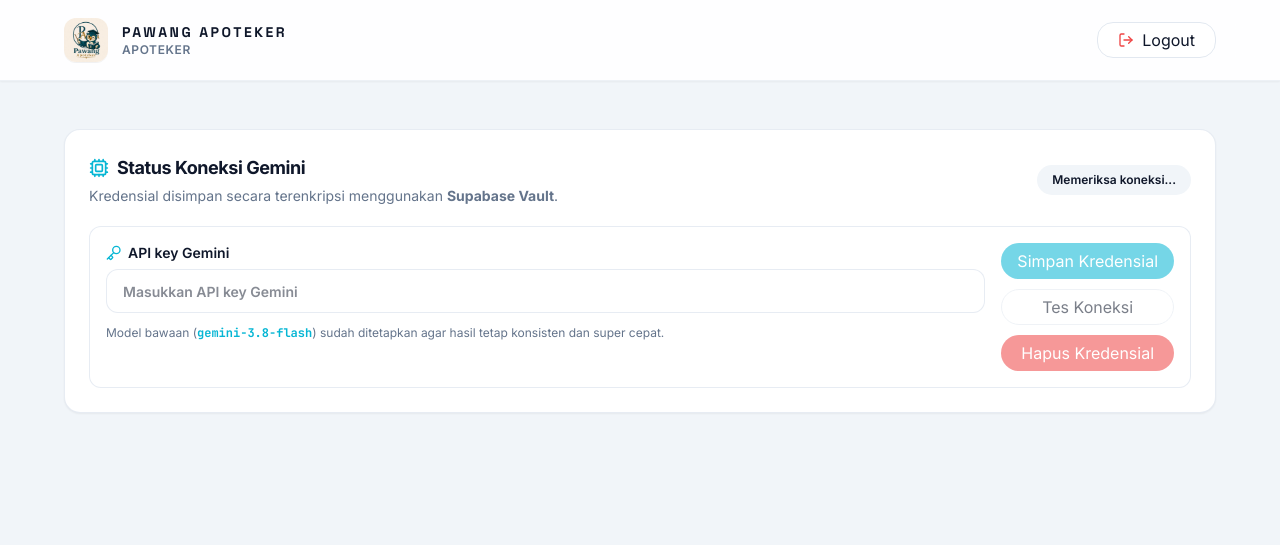
Test: AiConfigPage › renders amber warning and deferred validation feedback when credential is saved during Gemini 503 high demand
Type "AIzaSyTest12345" into the password field labelled "API key Gemini" at (546, 291), box top-left (106, 269), bottom-right (985, 313)
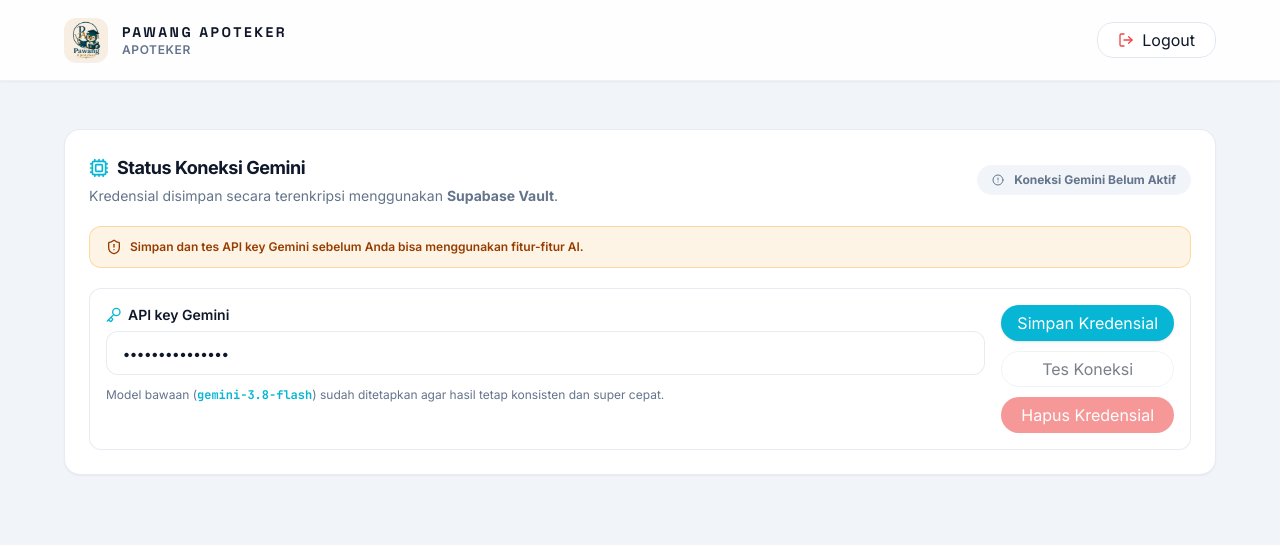
Click the button "Simpan Kredensial" at (1088, 323), box top-left (1001, 305), bottom-right (1174, 341)
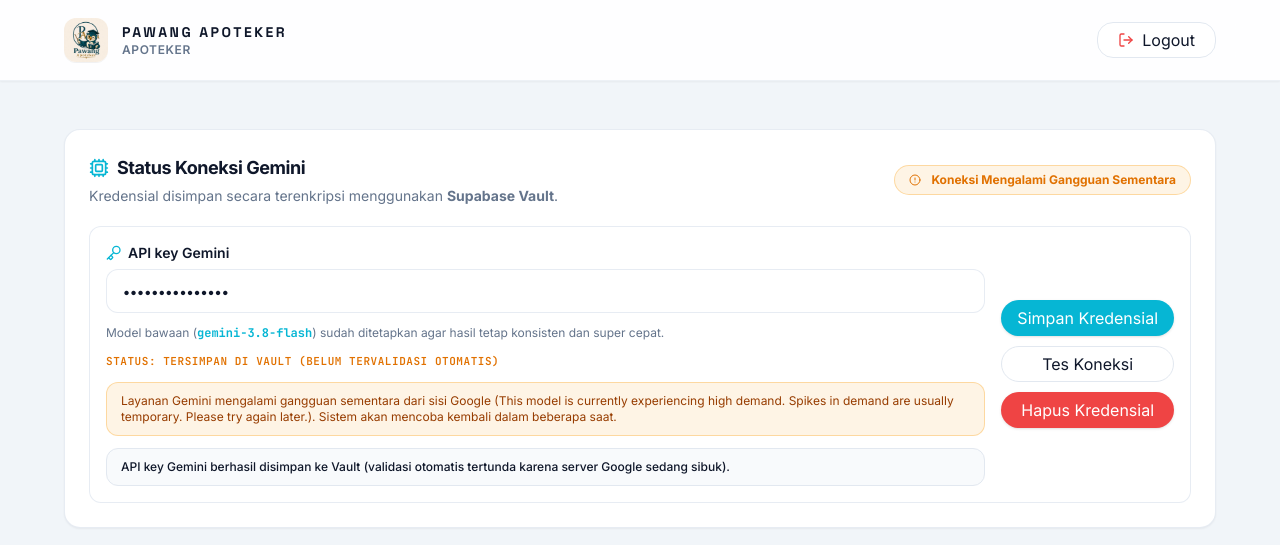
Expected: the text "API key Gemini berhasil disimpan ke Vault (validasi otomatis tertunda karena server Google sedang sibuk)" is shown, top-left (121, 458), bottom-right (730, 474)
Expected: the text "Status: Tersimpan di Vault (belum tervalidasi otomatis)" is shown, top-left (106, 354), bottom-right (499, 368)
